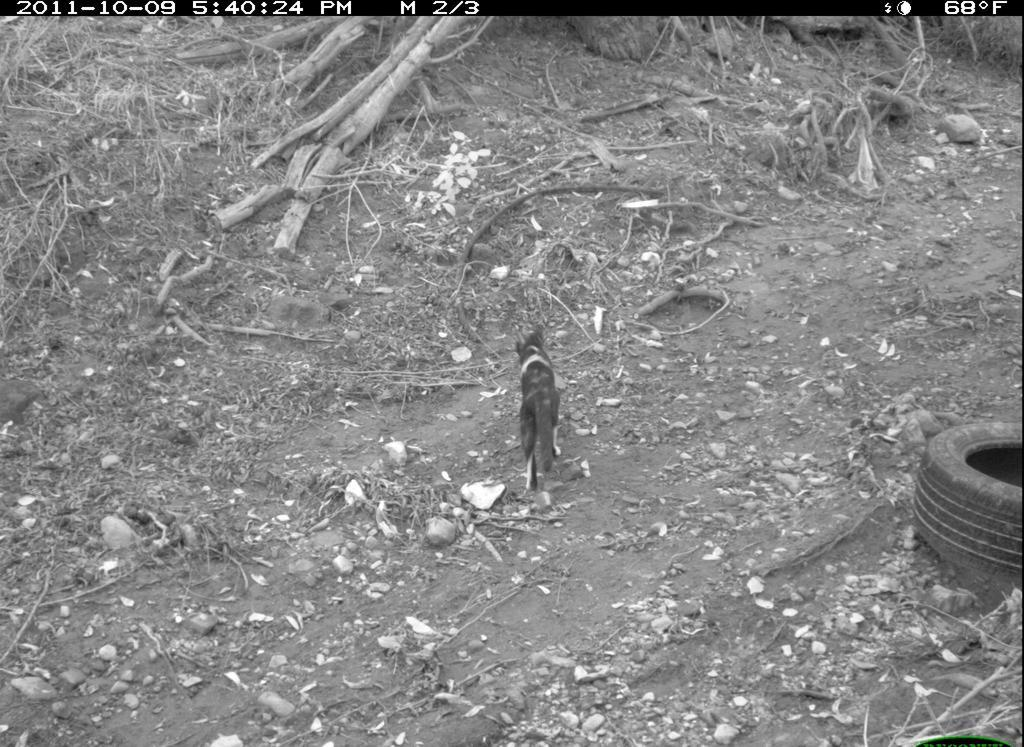cat: (505, 322, 570, 506)
